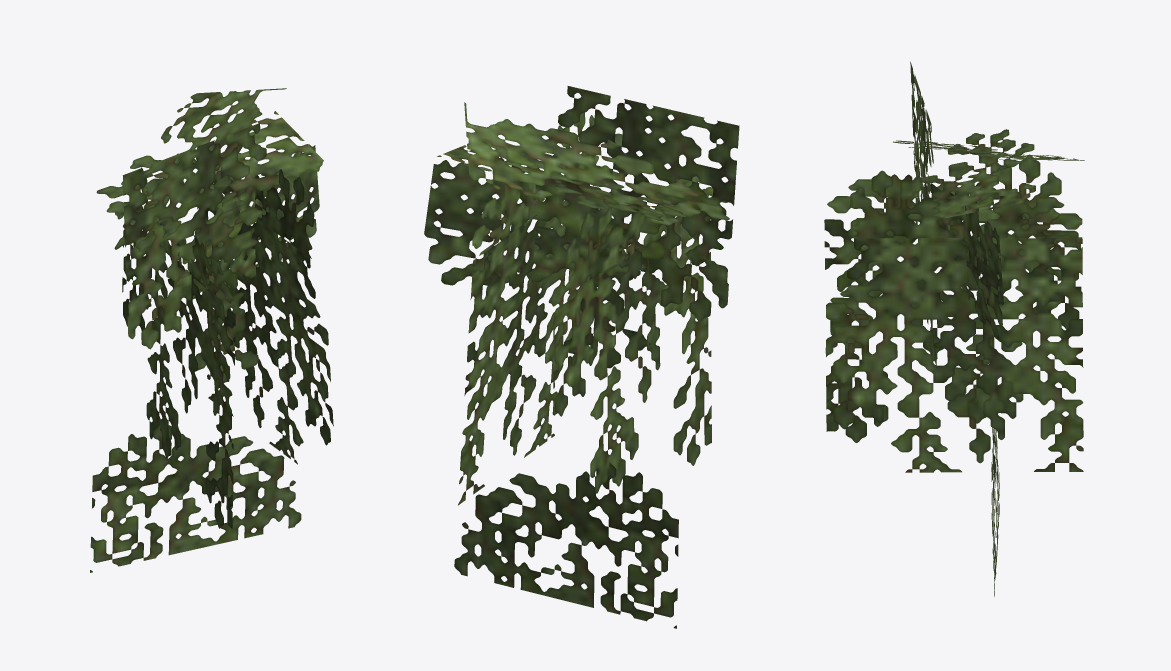
File: birch_leaves_vertical_slab.obj
3 renders of one model, left to right at view 1: azimuth 30°, elevation 25°; view 2: azimuth 150°, elevation 25°; view 3: azimuth 270°, elevation 25°, orthographic. The views are drawn at different scales.
Parts seen in each view (by area): view 1: south, west, east, north, top, bottom; view 2: south, north, east, west, top, bottom; view 3: south, north, bottom, west, top, east.
Boxes of the visible parts, x1,y1,x2,y2 form: south: [175, 144, 333, 464]; west: [122, 123, 266, 382]; east: [90, 424, 301, 572]; north: [122, 167, 235, 528]; top: [114, 88, 286, 251]; bottom: [96, 111, 323, 213]; south: [424, 112, 671, 505]; north: [553, 182, 711, 493]; east: [454, 462, 678, 628]; west: [558, 86, 739, 368]; top: [464, 102, 729, 225]; bottom: [437, 140, 686, 221]; south: [826, 170, 1083, 472]; north: [824, 154, 1081, 442]; bottom: [921, 129, 1035, 218]; west: [910, 61, 936, 365]; top: [893, 140, 1084, 160]; east: [991, 428, 999, 596].
Size of the model in its own units: 2.01 by 3.65 by 2.09.
